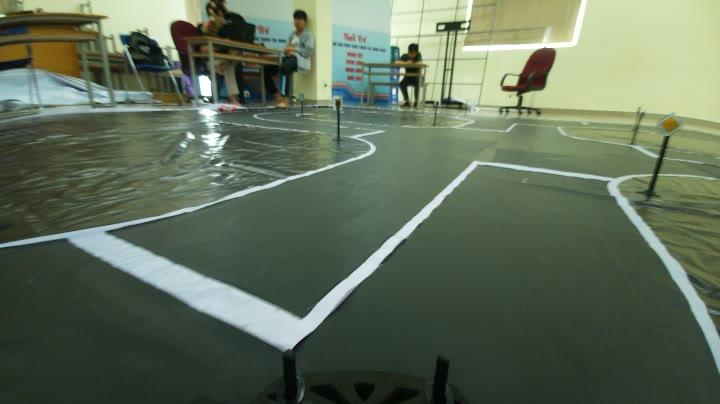priority: (654, 113, 684, 138)
